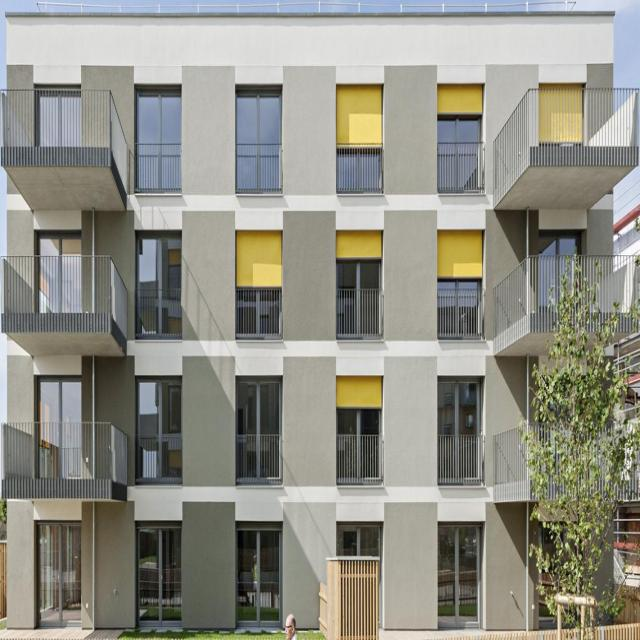Railing: (494, 89, 639, 195), (2, 87, 128, 191), (494, 254, 640, 342), (1, 254, 128, 336), (5, 423, 128, 486), (335, 290, 384, 340), (235, 142, 284, 192), (437, 433, 486, 482), (336, 434, 385, 483), (139, 435, 188, 484), (439, 147, 488, 196), (236, 435, 284, 484), (436, 290, 485, 338), (235, 290, 284, 338), (135, 140, 184, 188), (337, 144, 385, 193), (137, 288, 185, 336), (495, 424, 529, 485)
door: (235, 521, 283, 632), (36, 518, 83, 629), (136, 524, 180, 630), (439, 524, 482, 630)
plant: (517, 255, 640, 635)
wall: (0, 9, 640, 631)
windows: (235, 226, 282, 283), (236, 378, 283, 434), (336, 89, 382, 143), (438, 90, 485, 142), (336, 377, 382, 430), (236, 89, 284, 139), (438, 231, 482, 285), (138, 84, 185, 134), (136, 234, 182, 284), (438, 378, 484, 428), (136, 381, 182, 431), (338, 236, 379, 287), (540, 206, 582, 254), (38, 378, 82, 421), (36, 228, 84, 255)
